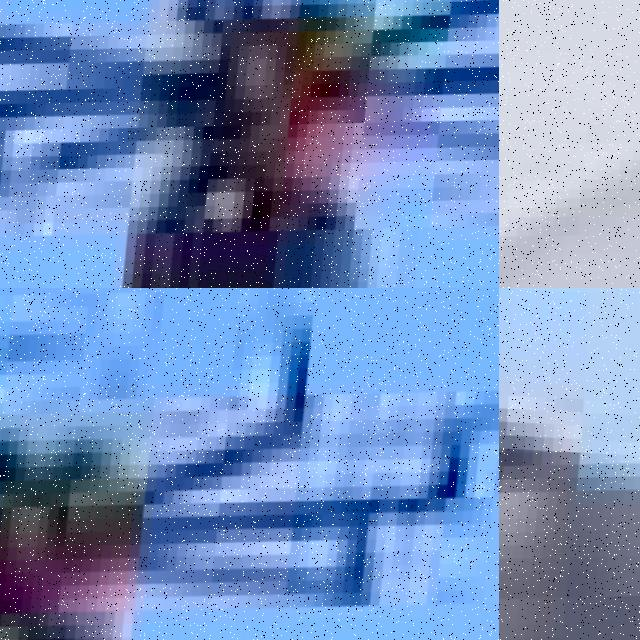0: (0, 288, 499, 640), (0, 0, 499, 288), (499, 442, 640, 640)
drone: (499, 0, 640, 288)
